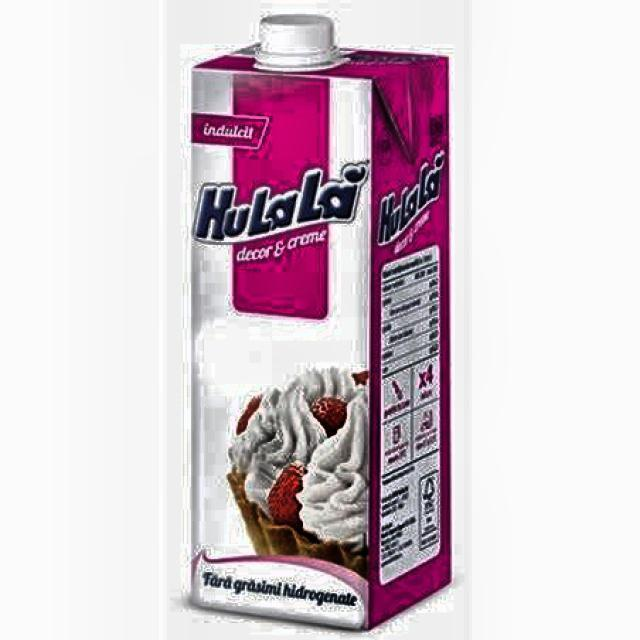cardboard: (187, 17, 452, 630)
